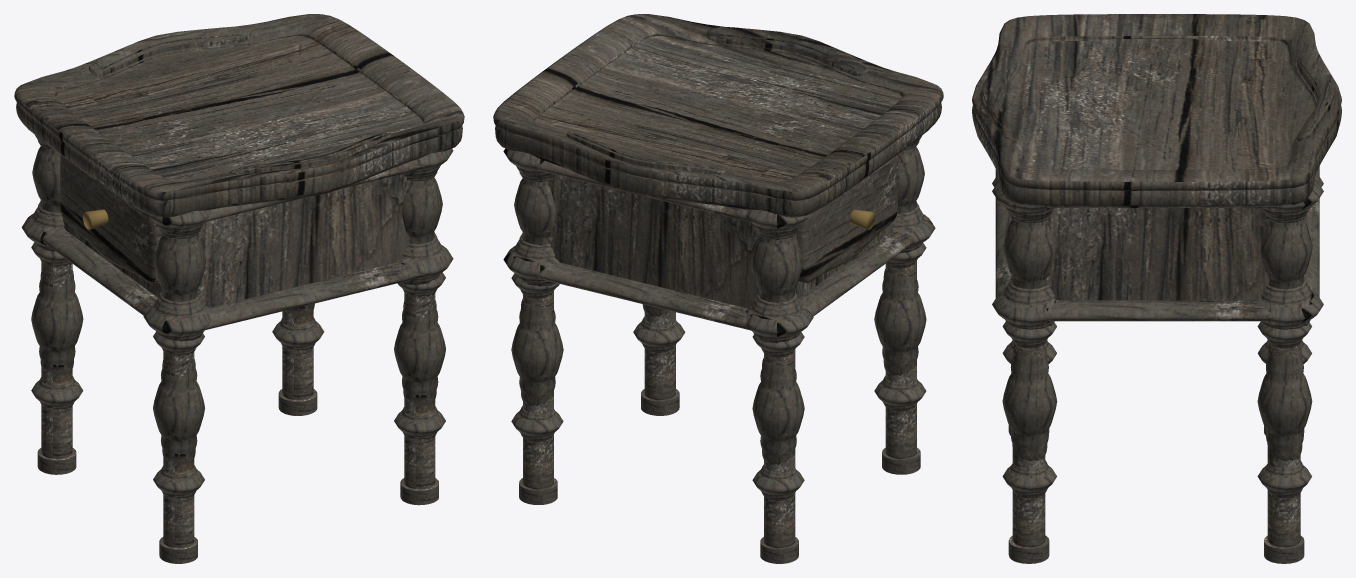
Rendered from vintage_bedside_table.glb.
3 views of the same model, side by side, from view 1: azimuth 30°, elevation 25°; view 2: azimuth 150°, elevation 25°; view 3: azimuth 270°, elevation 25° (orthographic). The views are drawn at different scales.
Parts seen in each view (by area): view 1: PlasticTray1, Part3, PlasticTray2, PlasticTray3, MesheshalfCylinder2, MeshespillarDesign13, MeshespillarDesign111, MeshespillarDesign122, MesheshalfCylinder8, Part4, Part1, Part8 (+19 smaller); view 2: PlasticTray1, Part3, PlasticTray2, PlasticTray3, MesheshalfCylinder6, MeshespillarDesign119, MeshespillarDesign111, MeshespillarDesign122, MesheshalfCylinder8, MeshespillarDesign117, MeshespillarDesign118, Part8 (+19 smaller); view 3: PlasticTray1, Part3, PlasticTray2, MesheshalfCylinder5, MeshespillarDesign13, MeshespillarDesign119, MeshespillarDesign16, MeshespillarDesign18, Part6, Part1, MeshespillarDesign19, MeshespillarDesign17 (+10 smaller).
Boxes of the visible parts, x1,y1,x2,y2 form: PlasticTray1: (14,14,464,200); Part3: (60,173,410,307); PlasticTray2: (16,103,462,217); PlasticTray3: (60,155,161,283); MesheshalfCylinder2: (202,262,426,330); MeshespillarDesign13: (394,300,445,401); MeshespillarDesign111: (153,359,204,459); MeshespillarDesign122: (31,270,83,370); MesheshalfCylinder8: (42,230,157,315); Part4: (163,351,194,547); Part1: (404,292,435,489); Part8: (41,261,72,458); PlasticTray1: (493,14,943,200); Part3: (548,174,893,308); PlasticTray2: (495,102,941,217); PlasticTray3: (796,154,898,282); MesheshalfCylinder6: (537,262,753,330); MeshespillarDesign119: (511,296,563,409); MeshespillarDesign111: (874,266,926,378); MeshespillarDesign122: (752,358,804,464); MesheshalfCylinder8: (799,231,914,316); MeshespillarDesign117: (751,236,802,302); MeshespillarDesign118: (746,292,813,343); Part8: (764,350,795,547); PlasticTray1: (972,14,1341,190); Part3: (1046,208,1269,300); PlasticTray2: (972,106,1341,207); MesheshalfCylinder5: (1043,300,1272,321); MeshespillarDesign13: (1002,348,1057,465); MeshespillarDesign119: (1257,345,1312,465); MeshespillarDesign16: (1003,219,1055,289); MeshespillarDesign18: (1260,219,1312,289); Part6: (1267,341,1300,547); Part1: (1012,341,1045,547); MeshespillarDesign19: (1257,277,1323,329); MeshespillarDesign17: (992,278,1057,329).
Size of the model in its own units: 3.23 by 3.6 by 2.99.
3 materials, 2 textured.
